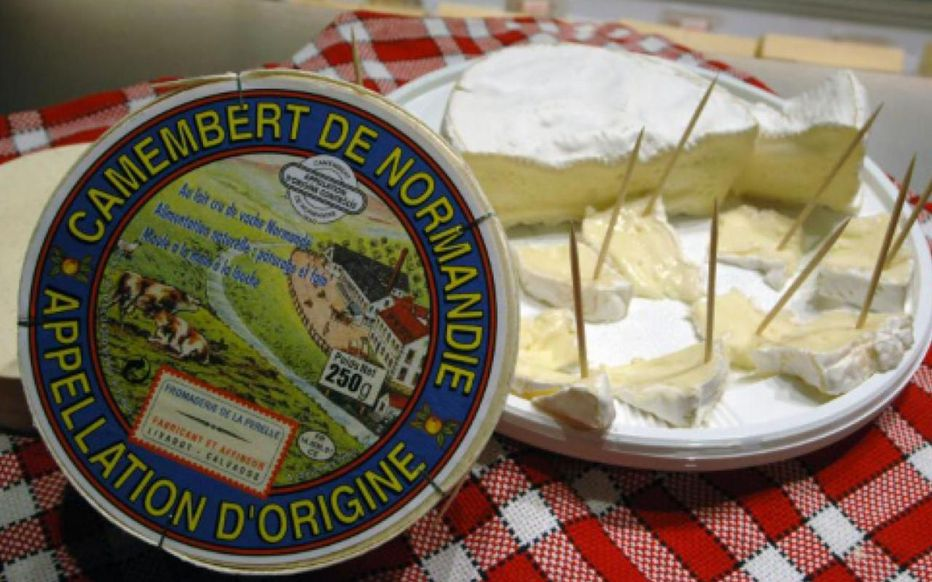camembert: (438, 45, 876, 230)
